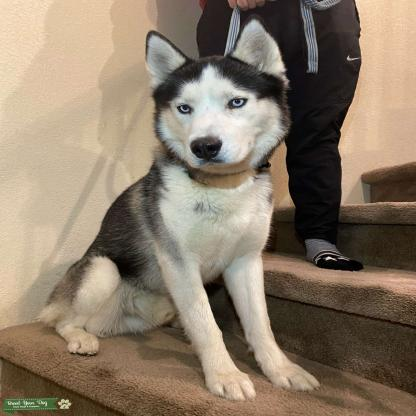husky: (43, 15, 322, 398)
